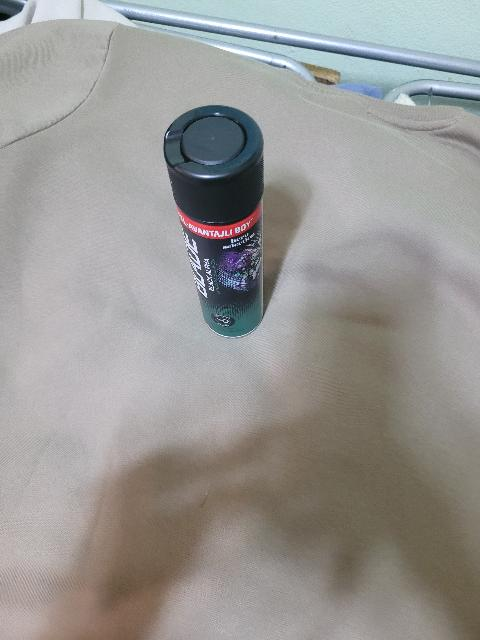Metal: (174, 211, 266, 338)
Plastik: (157, 101, 270, 211)
